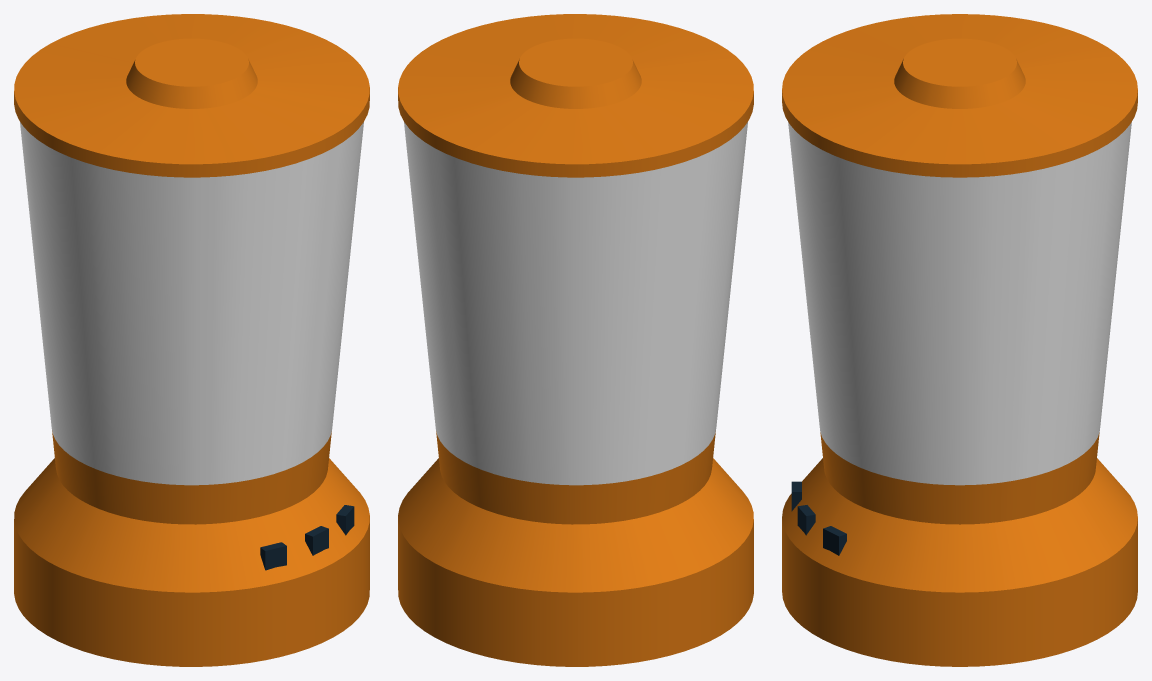
3 views of the same model, side by side, from view 1: azimuth 30°, elevation 25°; view 2: azimuth 150°, elevation 25°; view 3: azimuth 270°, elevation 25° (orthographic).
Visible parts, largest first — view 1: silver, pedestal, lid, tab_foot.001, tab_foot.002; view 2: silver, pedestal, lid; view 3: silver, pedestal, lid, tab_foot.003.
Part boxes in pixels (<box>): silver: <box>20,122,363,485</box>; pedestal: <box>14,431,369,666</box>; lid: <box>14,14,369,177</box>; tab_foot.001: <box>260,542,286,570</box>; tab_foot.002: <box>305,526,328,555</box>; silver: <box>404,122,747,485</box>; pedestal: <box>398,431,753,666</box>; lid: <box>398,14,753,177</box>; silver: <box>788,122,1131,485</box>; pedestal: <box>782,432,1137,666</box>; lid: <box>782,14,1137,177</box>; tab_foot.003: <box>823,526,846,555</box>.
Bounding box in the file's own units: 0.2433 × 0.3991 × 0.2433.
